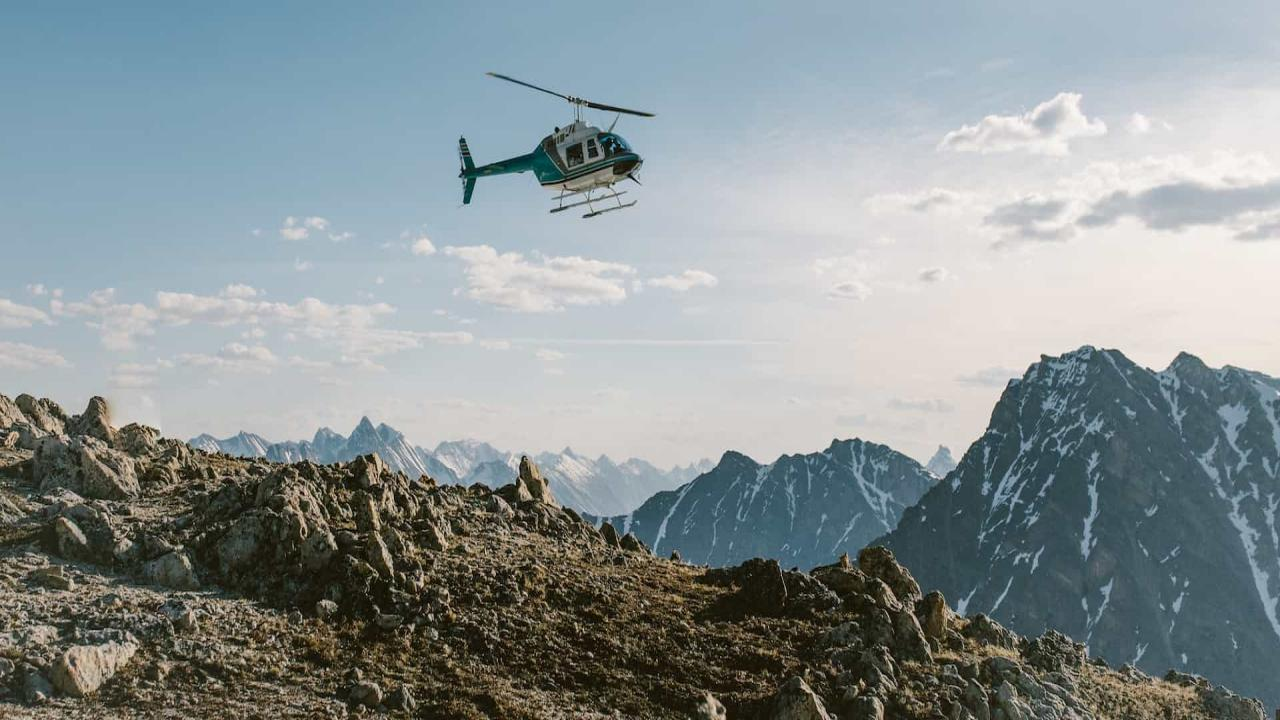Helicopter: (451, 57, 662, 226)
